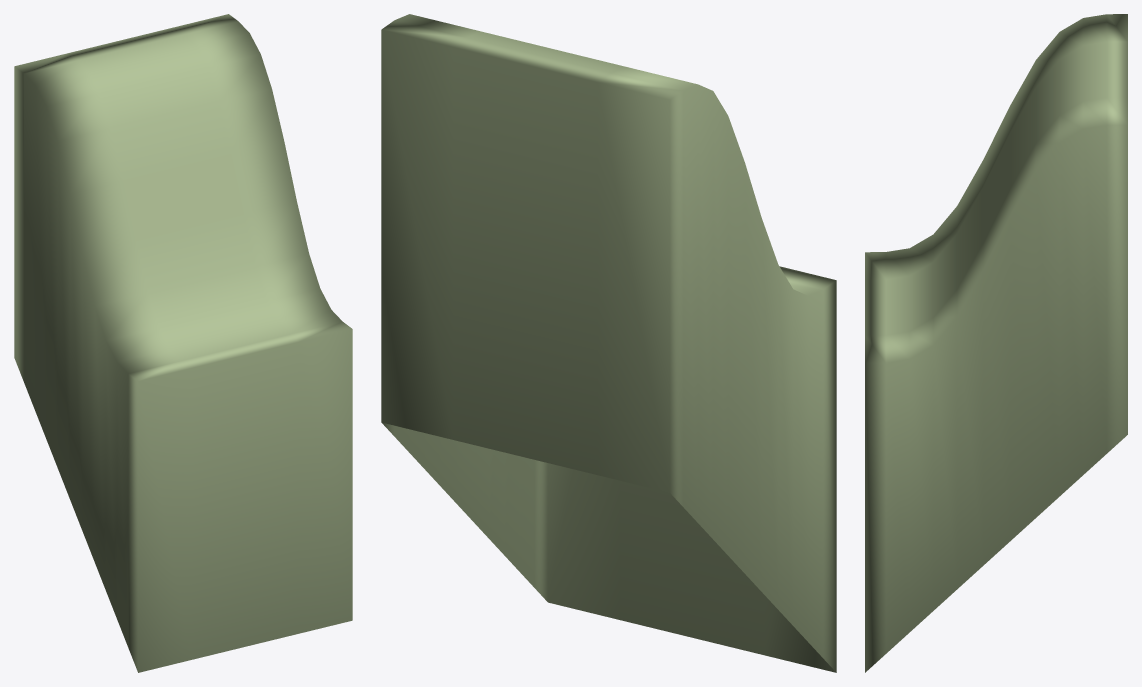
The model's file is ground-ramp-20.glb.
The picture shows the model from 3 angles, left to right: view 1: azimuth 30°, elevation 25°; view 2: azimuth 150°, elevation 25°; view 3: azimuth 270°, elevation 25°; orthographic projection. The views are drawn at different scales.
Visible parts, largest first — view 1: ground-ramp-20; view 2: ground-ramp-20; view 3: ground-ramp-20.
Part boxes in pixels (left/top/right/bottom): ground-ramp-20: left=14, top=14, right=352, bottom=672; ground-ramp-20: left=381, top=14, right=836, bottom=672; ground-ramp-20: left=865, top=14, right=1127, bottom=672.
Bounding box in the file's own units: 1 × 2.3 × 1.
